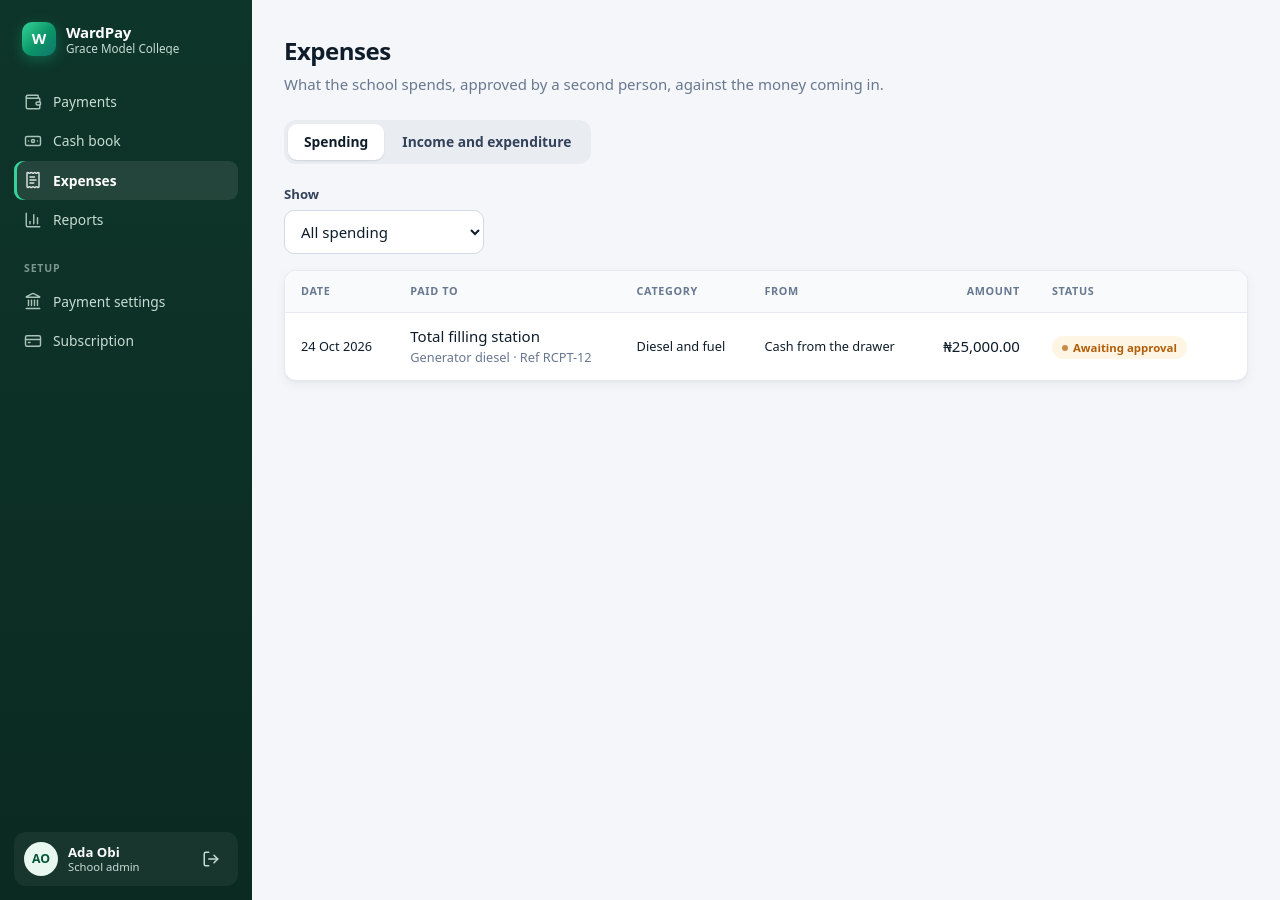
Scenario: expenses › shows income against expenditure, with a deficit
Click the tab "Income and expenditure": (487, 142) [386, 124, 587, 160]
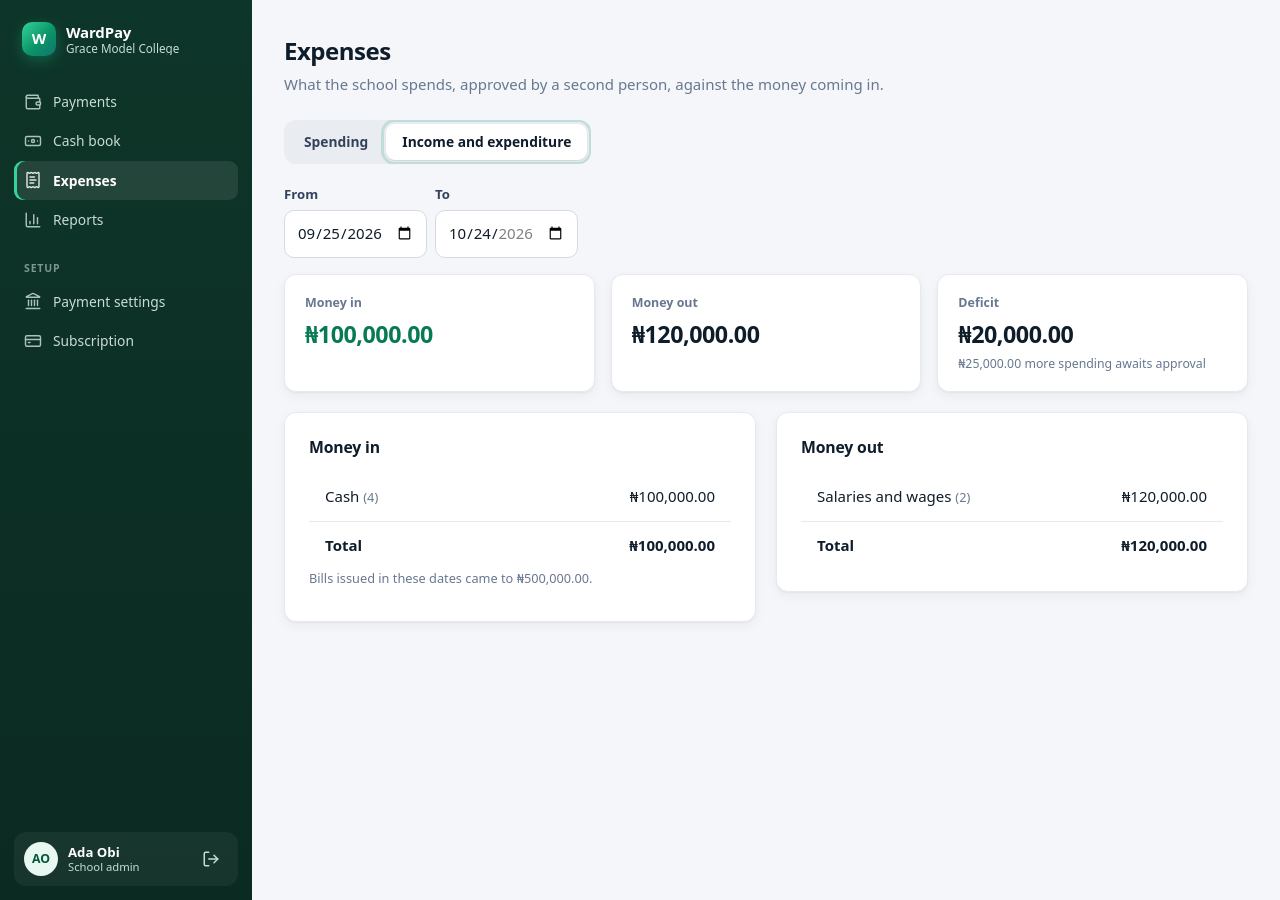
Check: the text "Deficit" is shown, box [958, 292, 999, 312]
Check: the text "₦20,000.00" is shown, box [958, 318, 1073, 350]
Check: the text "Salaries and wages (2)" is shown, box [801, 473, 1059, 521]
